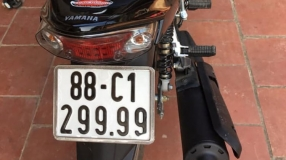bien_so: (53, 65, 155, 146)
